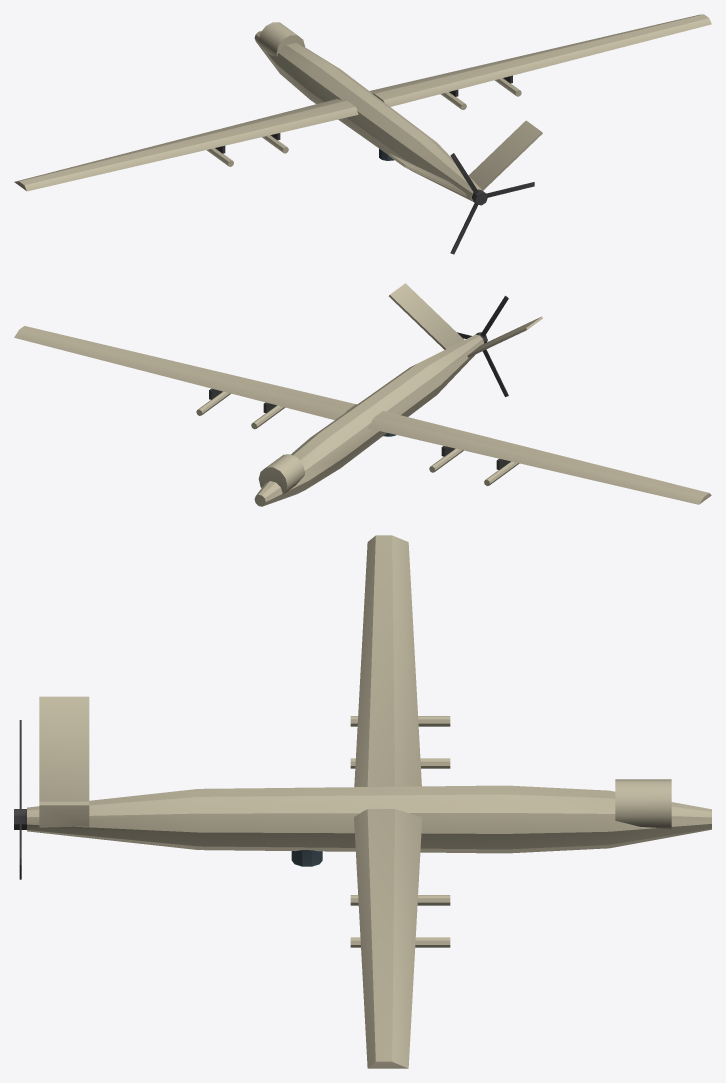
The model's file is usa_uav_mq1c.glb.
3 views of the same model, one above another, from view 1: azimuth 30°, elevation 25°; view 2: azimuth 150°, elevation 25°; view 3: azimuth 270°, elevation 25° (orthographic). The views are drawn at different scales.
Visible parts, largest first — view 1: body, propy_0; view 2: body, propy_0; view 3: body.
Part boxes in pixels (x1=…): body: x1=14, y1=14, x2=711, y2=201; propy_0: x1=450, y1=153, x2=534, y2=254; body: x1=14, y1=283, x2=711, y2=506; propy_0: x1=457, y1=295, x2=508, y2=396; body: x1=27, y1=535, x2=711, y2=1068.
Size of the model in its own units: 14 by 1.98 by 7.85.
